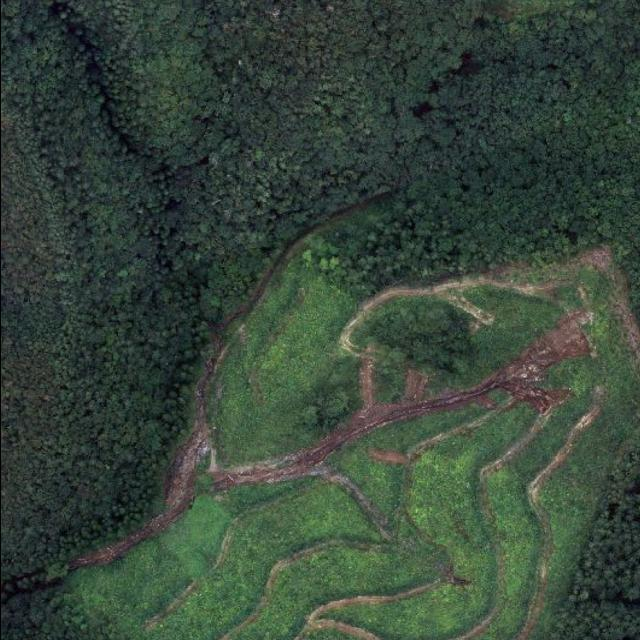landslide: (206, 307, 591, 493), (159, 424, 210, 528)
